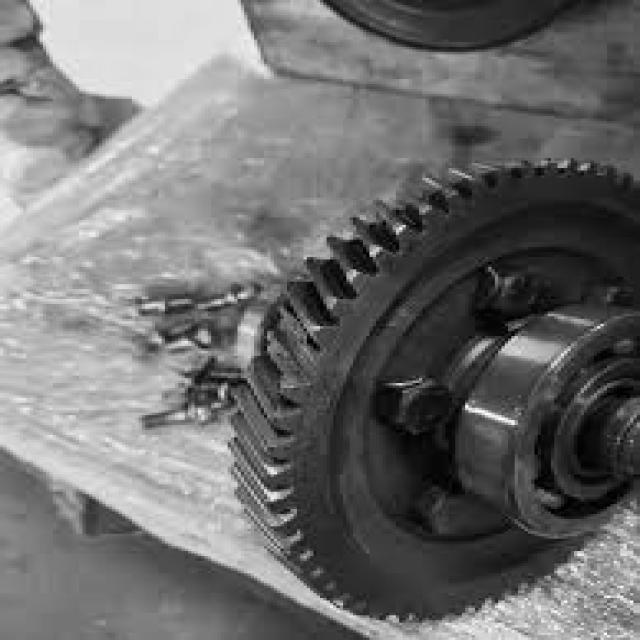Fault-Exist: (222, 240, 373, 513)
